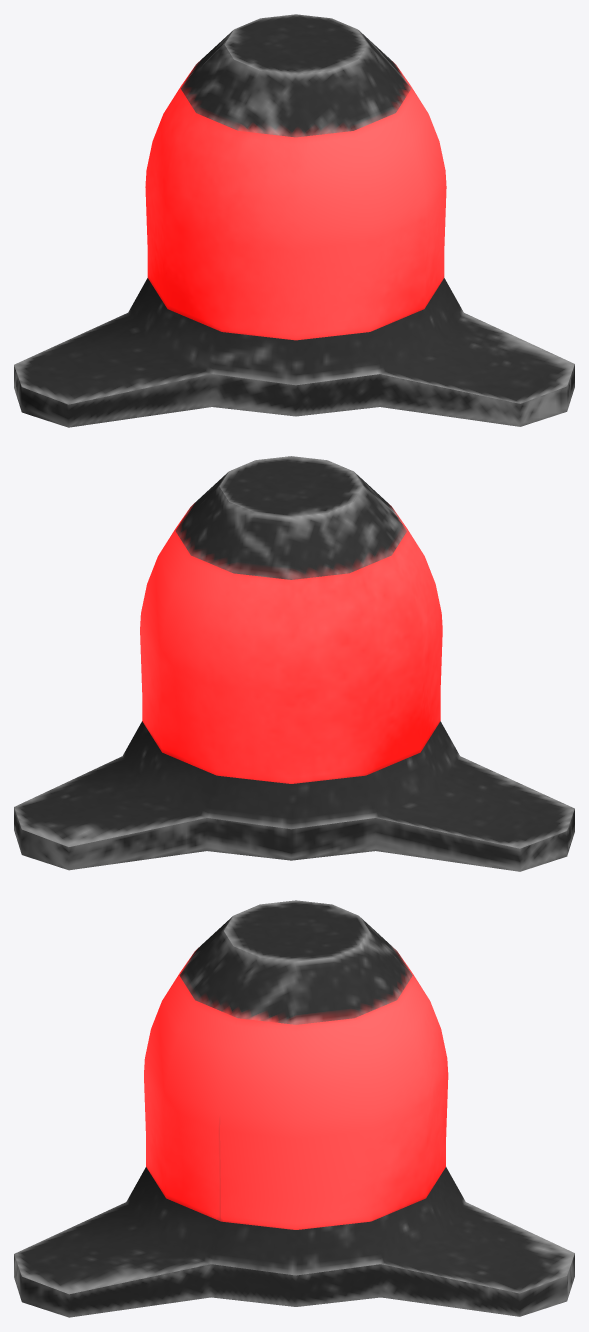
File: LaserTarget.fbx
3 renders of one model, top to bottom at view 1: azimuth 30°, elevation 25°; view 2: azimuth 150°, elevation 25°; view 3: azimuth 270°, elevation 25°, orthographic.
Visible parts, largest first — view 1: LaserTarget; view 2: LaserTarget; view 3: LaserTarget.
Boxes of the visible parts, x1,y1,x2,y2 form: LaserTarget: [14, 14, 574, 427]; LaserTarget: [14, 456, 574, 871]; LaserTarget: [14, 900, 574, 1317].
Size of the model in its own units: 1 by 0.6528 by 1.09.
